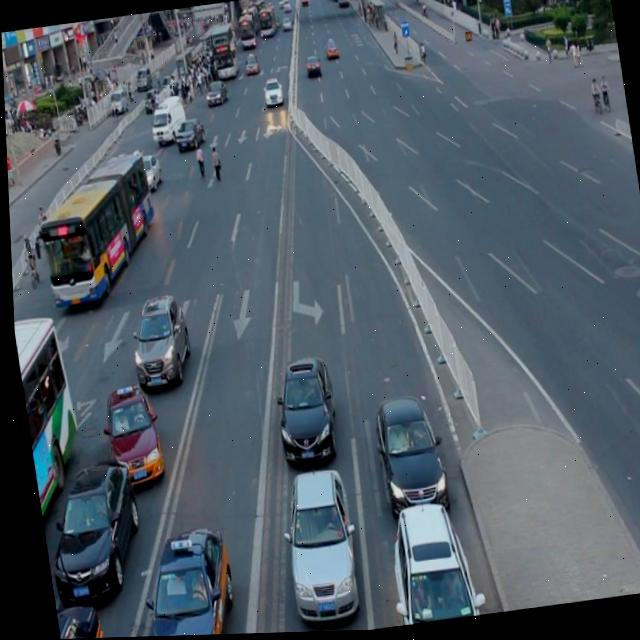car: (34, 456, 145, 606), (270, 463, 360, 626), (376, 496, 477, 628), (122, 521, 235, 638), (366, 389, 446, 521), (264, 352, 339, 469), (95, 378, 164, 490), (120, 291, 193, 393), (49, 596, 100, 639), (136, 153, 161, 192)
van: (30, 151, 162, 309), (11, 313, 87, 535)
